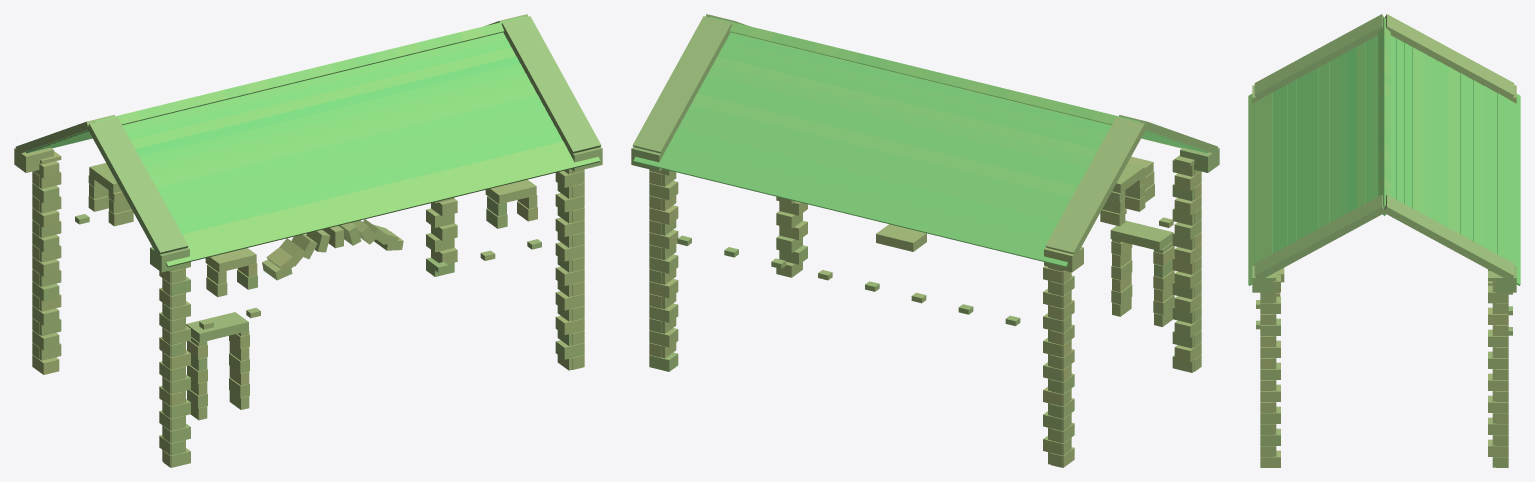
File: SM_Bld_160_Stone.glb
The picture shows the model from 3 angles, left to right: view 1: azimuth 30°, elevation 25°; view 2: azimuth 150°, elevation 25°; view 3: azimuth 270°, elevation 25°; orthographic projection. The views are drawn at different scales.
Parts seen in each view (by area): view 1: SM_Bld_160_Stone; view 2: SM_Bld_160_Stone; view 3: SM_Bld_160_Stone.
Part boxes in pixels (box(x1,y1,x2,y2)): SM_Bld_160_Stone: box(14, 14, 602, 467); SM_Bld_160_Stone: box(631, 14, 1219, 467); SM_Bld_160_Stone: box(1248, 14, 1520, 467).
Bounding box in the file's own units: 11.29 × 7.29 × 6.73.
